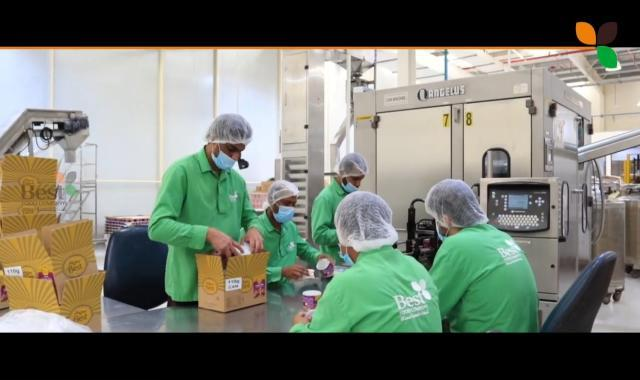Hairnet: (328, 190, 399, 247), (422, 174, 484, 225), (202, 117, 253, 144), (269, 176, 299, 204), (337, 154, 372, 178)
Mask: (212, 152, 235, 169), (273, 206, 296, 223), (337, 252, 356, 267), (433, 228, 448, 242), (337, 179, 355, 189)
No_Apron: (173, 161, 248, 291), (450, 230, 535, 334), (334, 253, 430, 341), (260, 220, 300, 262)
No_Glove: (205, 226, 241, 262), (275, 264, 308, 281), (246, 228, 263, 254), (290, 311, 312, 324)
